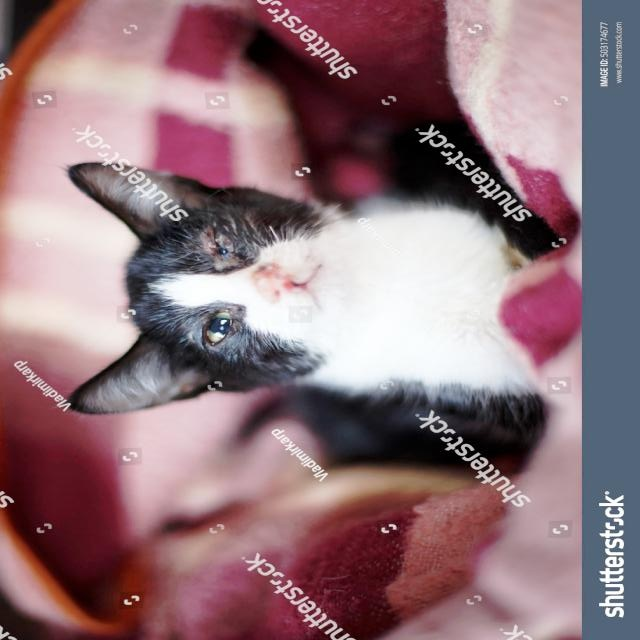eye_infection: (198, 307, 238, 346), (203, 229, 233, 255)
